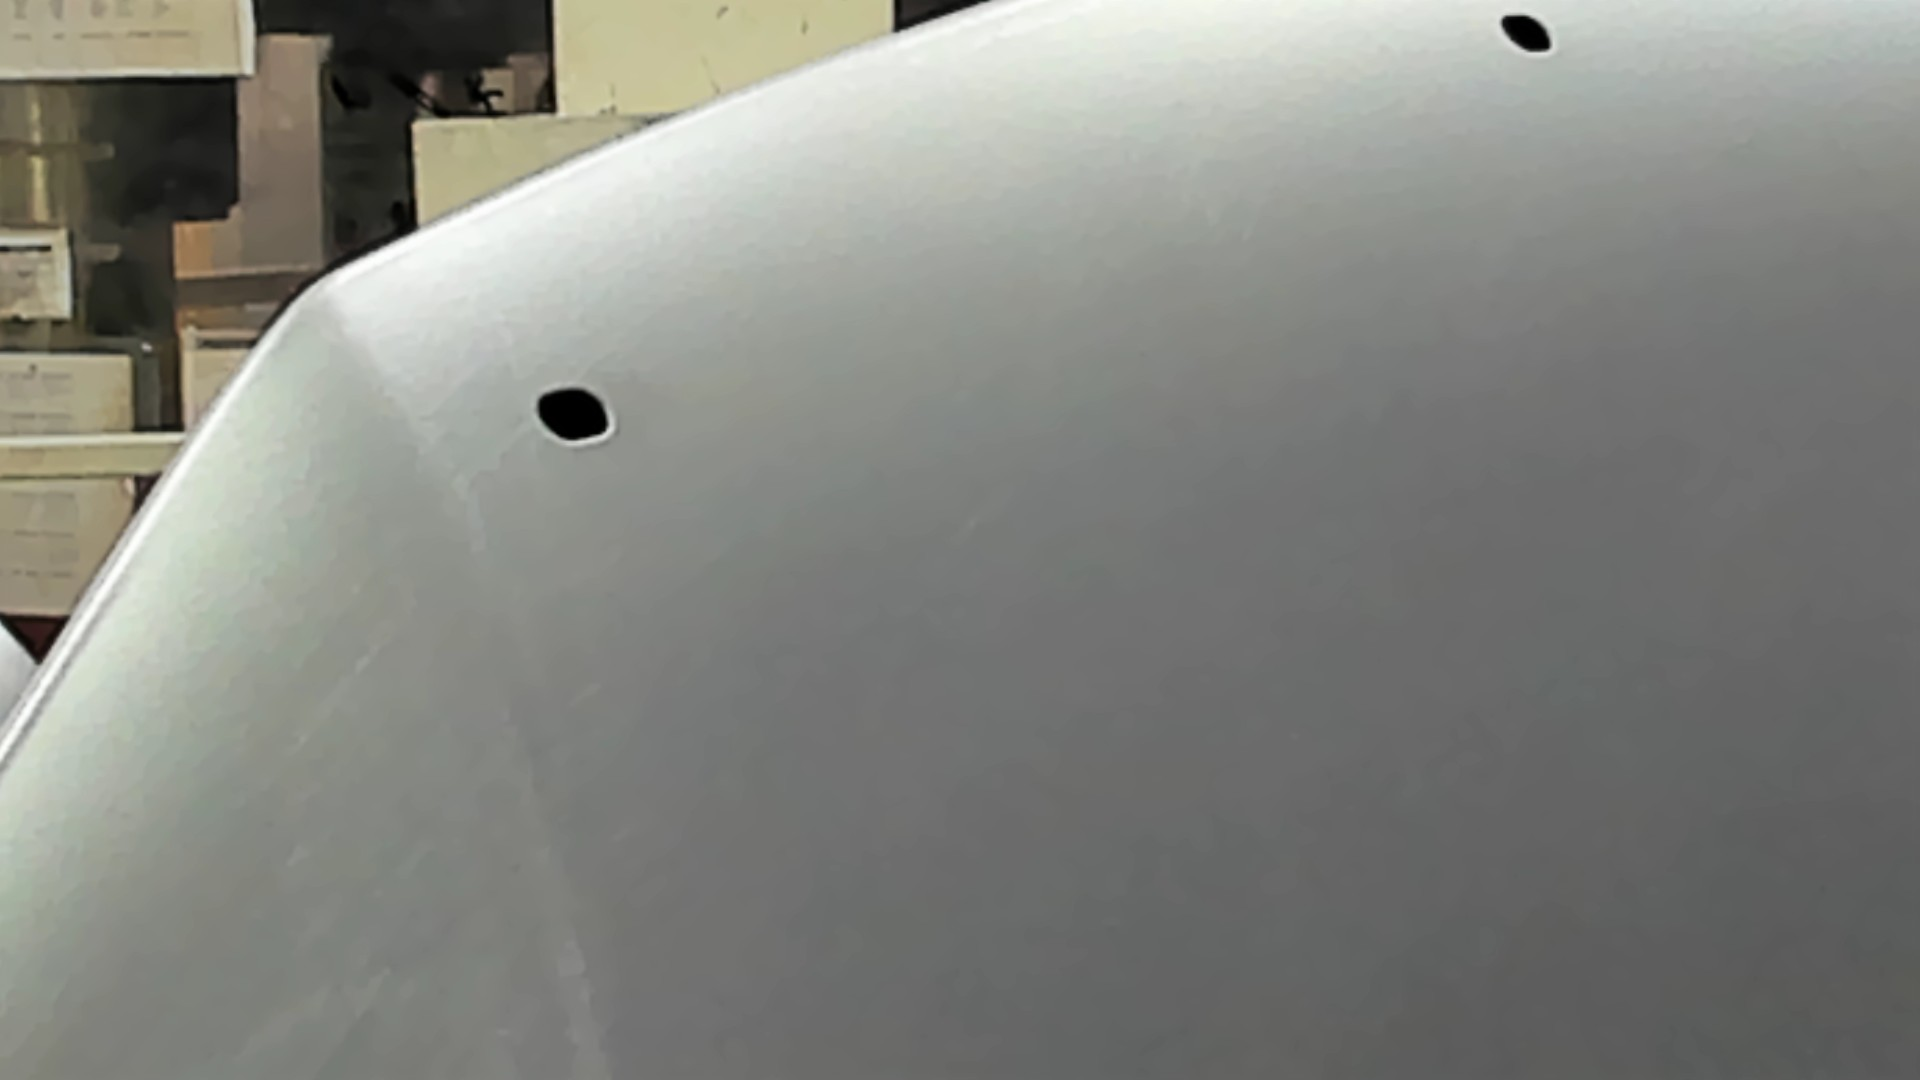amorfo: (525, 375, 624, 448), (1495, 9, 1559, 55)
